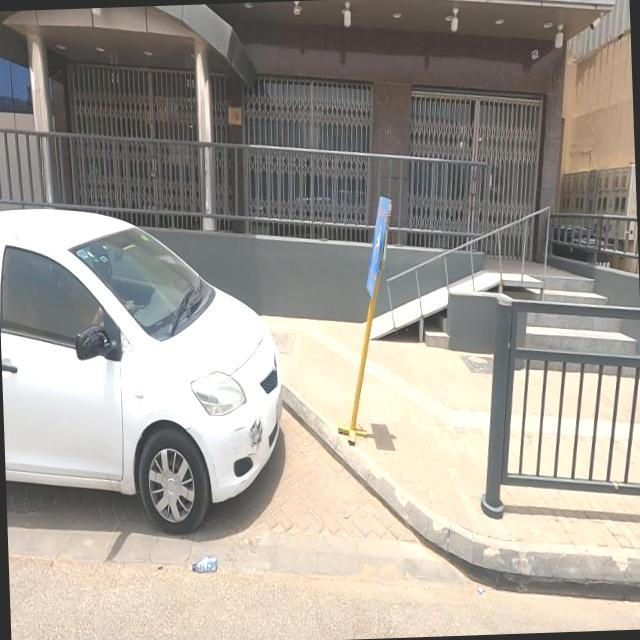debris: (305, 80, 453, 529), (162, 524, 245, 605)
